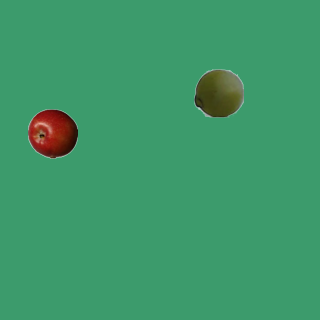Apple Braeburn: (27, 108, 77, 158)
Grape White 4: (193, 67, 243, 117)
